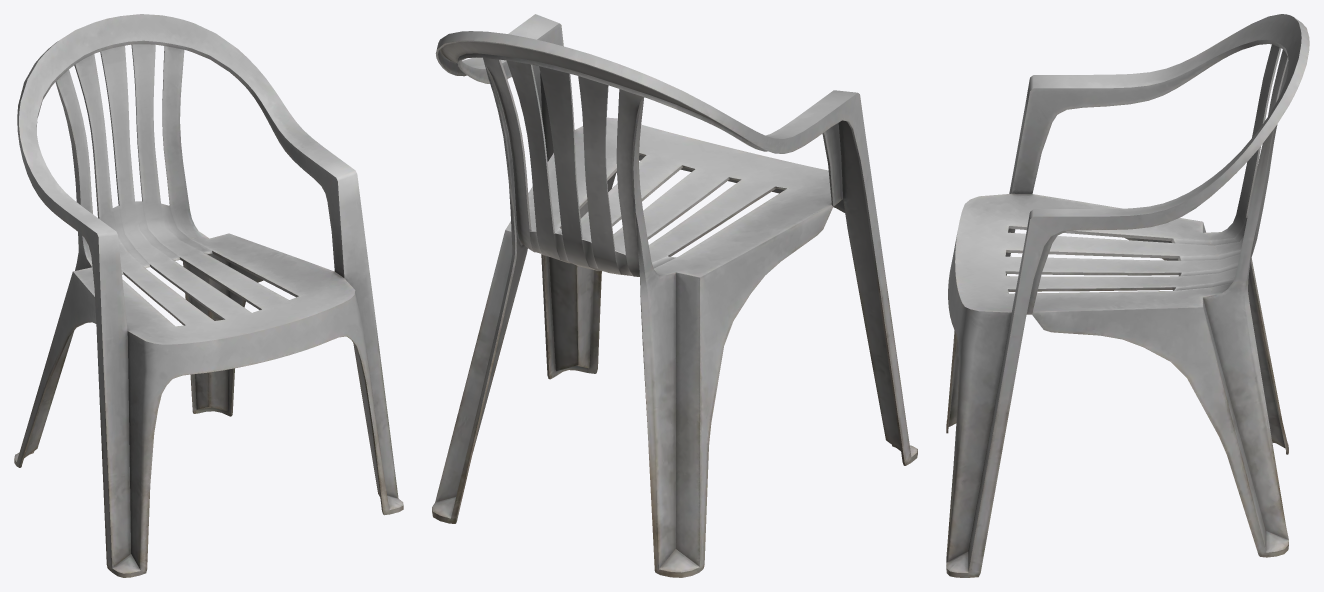
The model's file is plastic_monobloc_chair_01.glb.
3 renders of one model, left to right at view 1: azimuth 30°, elevation 25°; view 2: azimuth 150°, elevation 25°; view 3: azimuth 270°, elevation 25°, orthographic. The views are drawn at different scales.
Parts seen in each view (by area): view 1: plastic_monobloc_chair_01; view 2: plastic_monobloc_chair_01; view 3: plastic_monobloc_chair_01.
Boxes of the visible parts, left/top/right/bottom form: plastic_monobloc_chair_01: left=14, top=14, right=403, bottom=577; plastic_monobloc_chair_01: left=432, top=14, right=917, bottom=577; plastic_monobloc_chair_01: left=946, top=14, right=1309, bottom=577.
Bounding box in the file's own units: 0.6418 × 0.8798 × 0.6276.
Materials: 1 (1 with a texture image).
